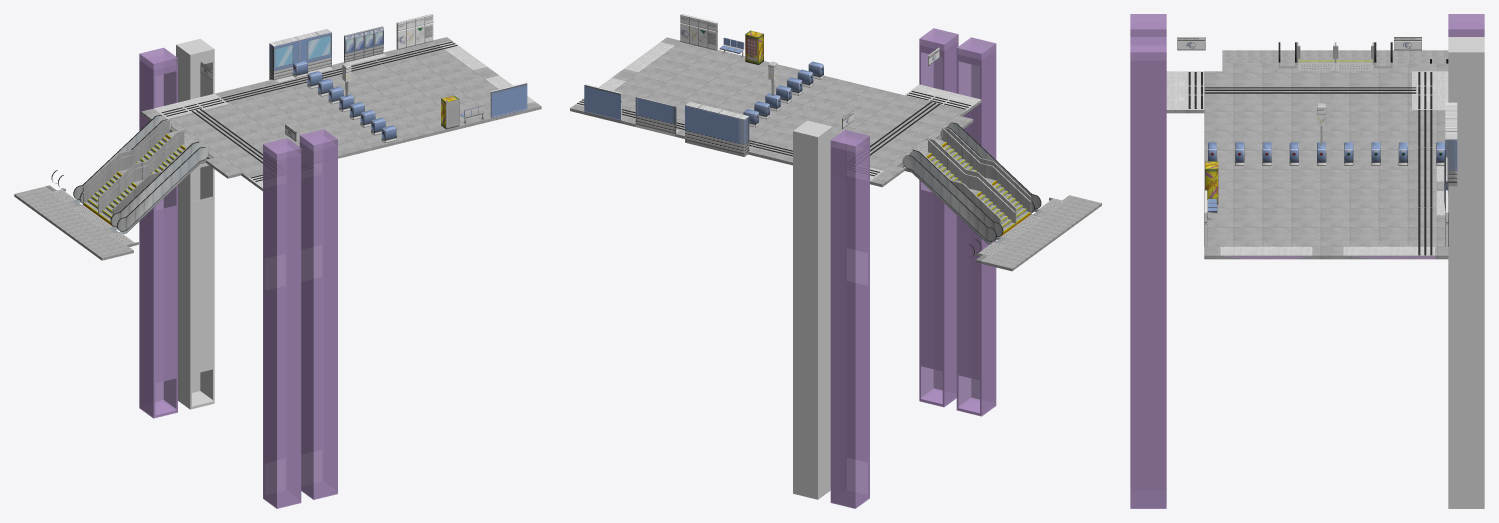
The model's file is espace d'accueil.fbx.
3 renders of one model, left to right at view 1: azimuth 30°, elevation 25°; view 2: azimuth 150°, elevation 25°; view 3: azimuth 270°, elevation 25°, orthographic. The views are drawn at different scales.
Visible parts, largest first — view 1: Cube.036, ascenseur.003, ascenseur.002, ascenseur.001, ascenseur, Plane.027, Plane.020, ligne controle, bandes podotactile; view 2: Cube.036, ascenseur, ascenseur.001, ascenseur.003, ascenseur.002, Plane.027, Plane.020, ligne controle, bandes podotactile; view 3: Cube.036, ascenseur.002, ascenseur.001, bandes podotactile, Plane.020, ligne controle, Plane.027, ascenseur.003, ascenseur.
Boxes of the visible parts, x1,y1,x2,y2 form: Cube.036: [141, 14, 541, 190]; ascenseur.003: [263, 138, 301, 508]; ascenseur.002: [299, 129, 337, 499]; ascenseur.001: [176, 38, 214, 409]; ascenseur: [139, 47, 177, 418]; Plane.027: [46, 115, 213, 233]; Plane.020: [14, 186, 138, 260]; ligne controle: [292, 60, 396, 142]; bandes podotactile: [161, 41, 457, 181]; Cube.036: [570, 14, 981, 187]; ascenseur: [830, 130, 869, 508]; ascenseur.001: [793, 120, 832, 499]; ascenseur.003: [956, 37, 996, 416]; ascenseur.002: [919, 28, 958, 407]; Plane.027: [897, 122, 1043, 262]; Plane.020: [974, 195, 1101, 271]; ligne controle: [743, 61, 823, 127]; bandes podotactile: [577, 91, 970, 176]; Cube.036: [1166, 37, 1457, 259]; ascenseur.002: [1130, 37, 1166, 508]; ascenseur.001: [1448, 37, 1484, 508]; bandes podotactile: [1188, 72, 1432, 255]; Plane.020: [1222, 50, 1448, 66]; ligne controle: [1208, 103, 1445, 165]; Plane.027: [1278, 42, 1448, 70]; ascenseur.003: [1130, 14, 1166, 36]; ascenseur: [1448, 14, 1484, 36].
Size of the model in its own units: 7078 by 5548 by 3899.
